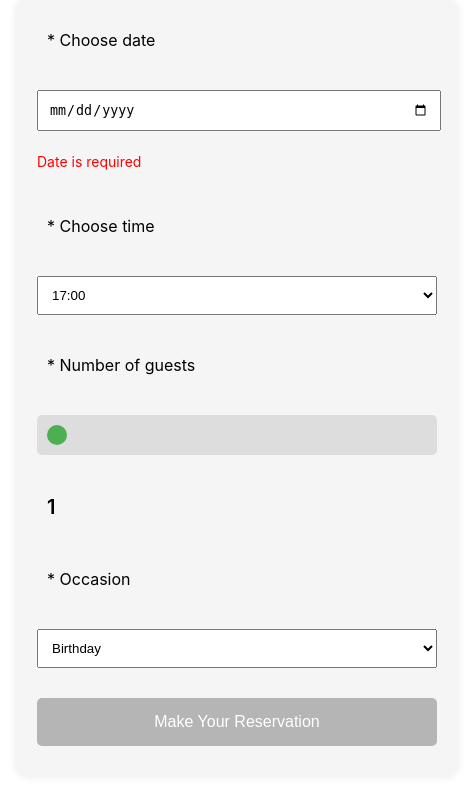
it: Booking Component › enables submit button when date is valid
Type "2023-02-14" into the date field labelled "* Choose date" at (239, 111), box x1=37 y1=90 x2=441 y2=131
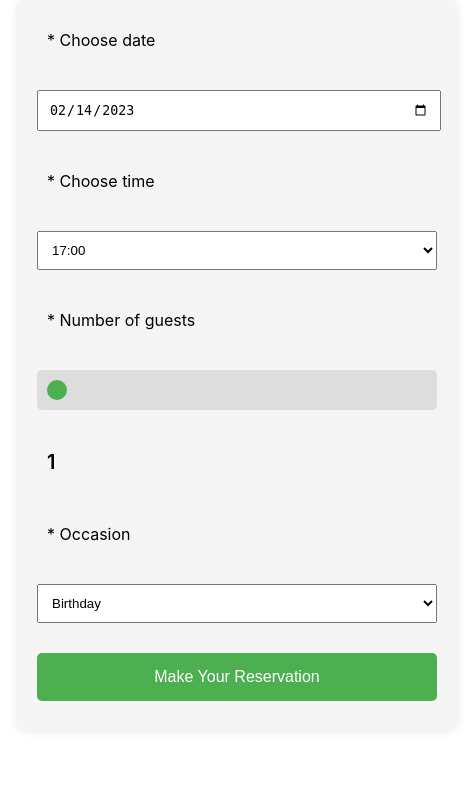
Result: the button "Make Your Reservation" is enabled at x1=37 y1=653 x2=437 y2=701
